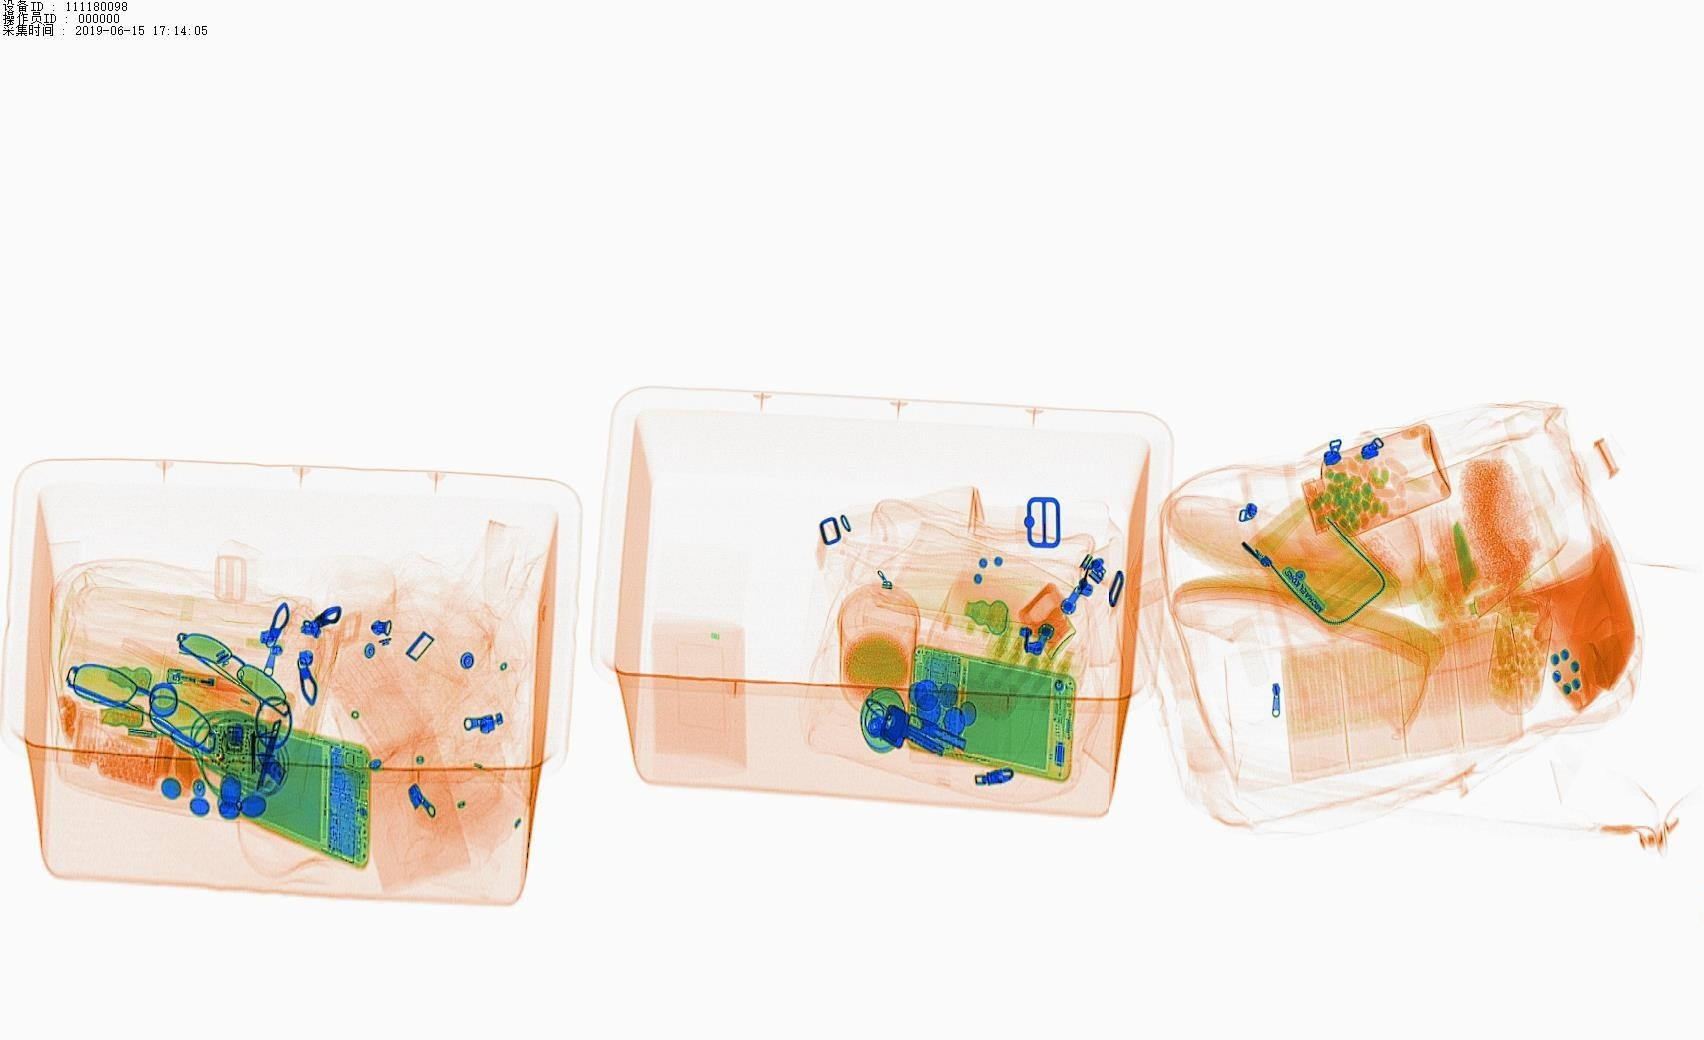NonmetallicFire: (159, 656, 267, 701)
